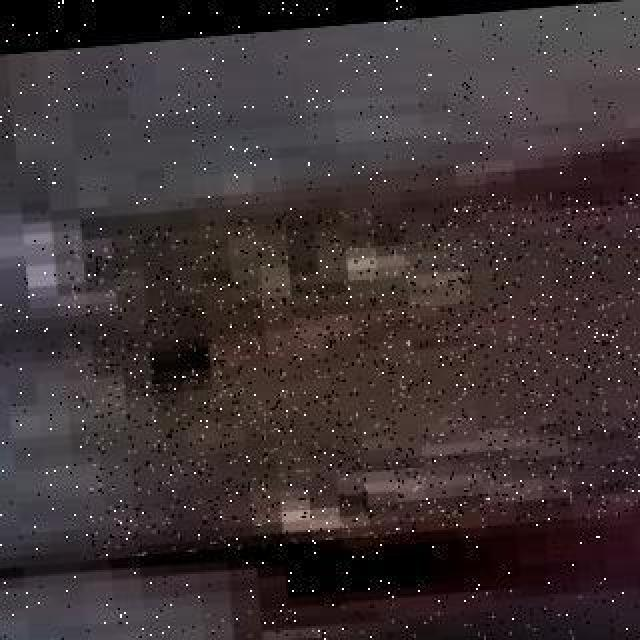cavities: (62, 160, 640, 560), (112, 542, 640, 640)
